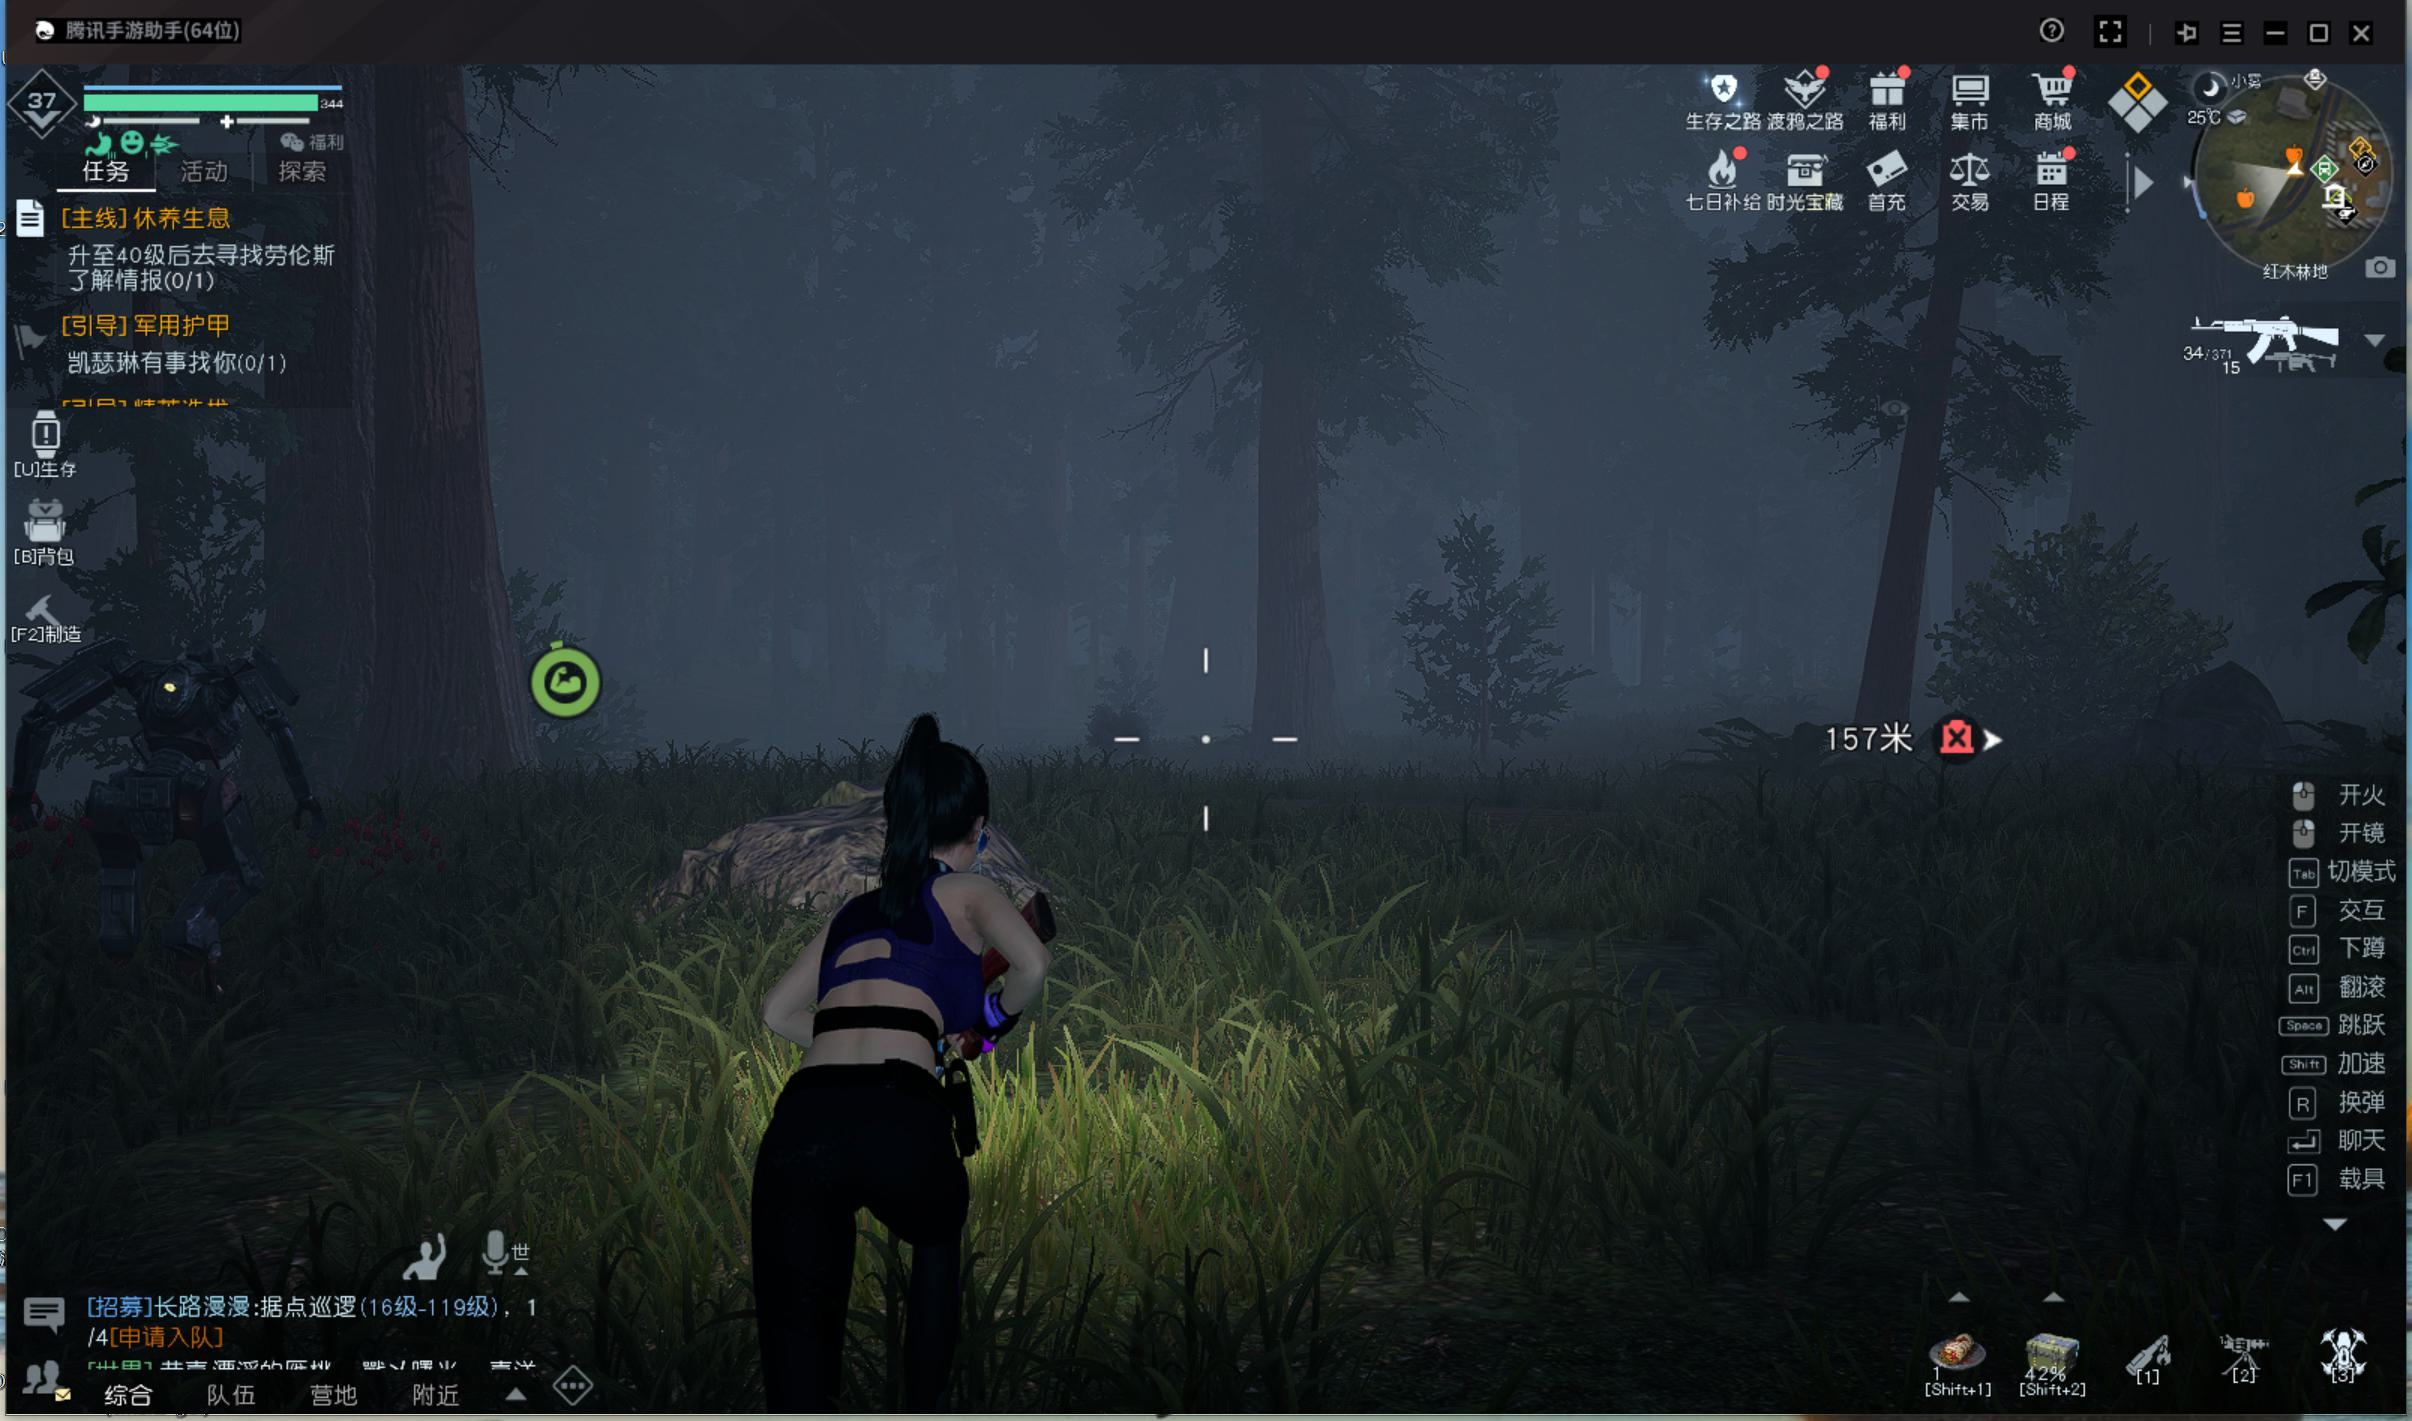tree: (222, 110, 568, 856), (1235, 406, 1351, 793), (1850, 414, 1916, 805)
